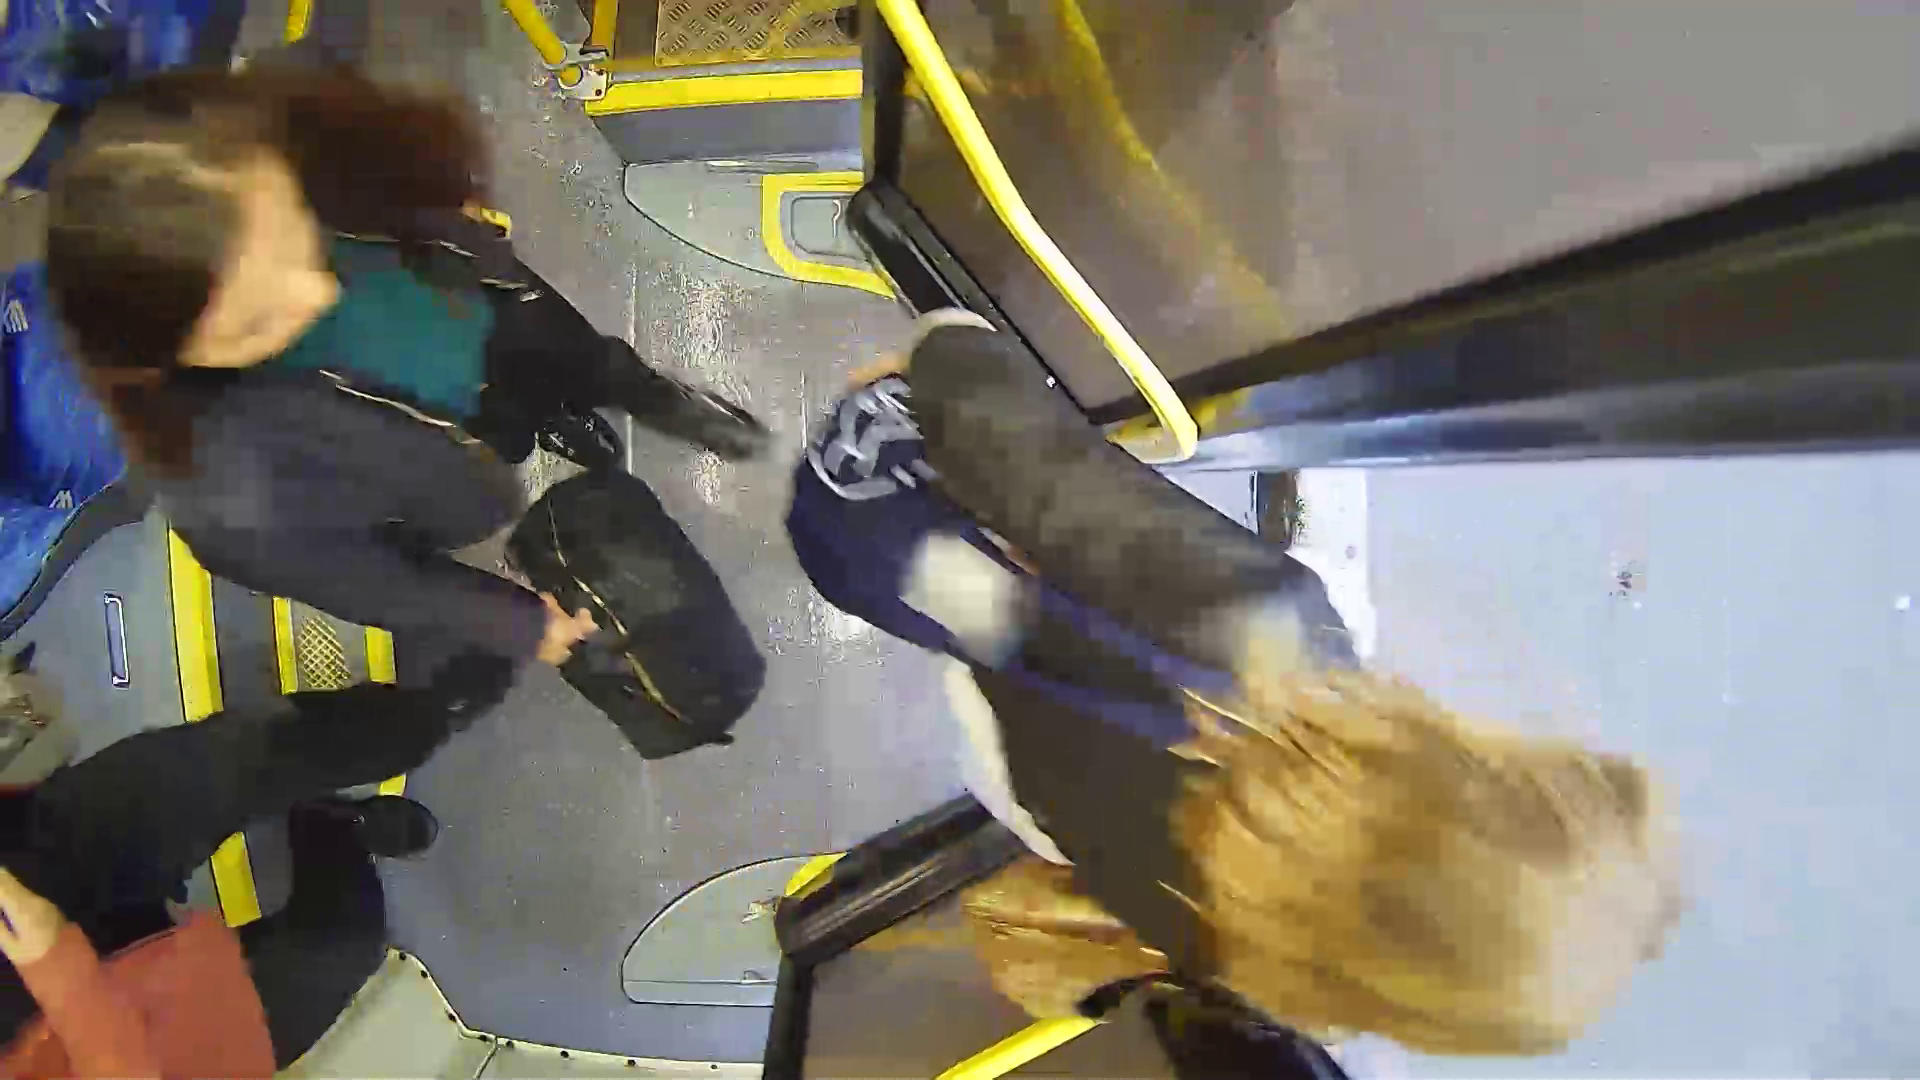person: (748, 308, 1769, 1074), (66, 63, 677, 738)
